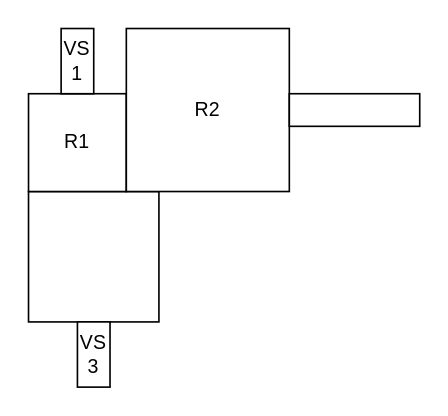
The diagram is 448 pixels wide and 416 high, and some of its shapes have lost their labels. The shapes that lost their labels are listed below. From the top down, each one's centre as x and y in pixels, then its label:
At [354,109]: "Secret tunnel".
At [93,256]: "R3".
